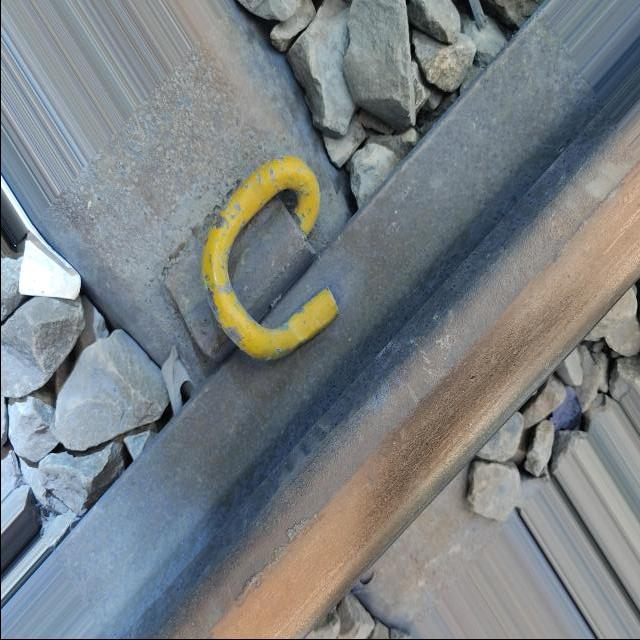broken_rail_medium: (230, 515, 314, 605), (467, 373, 475, 383)
